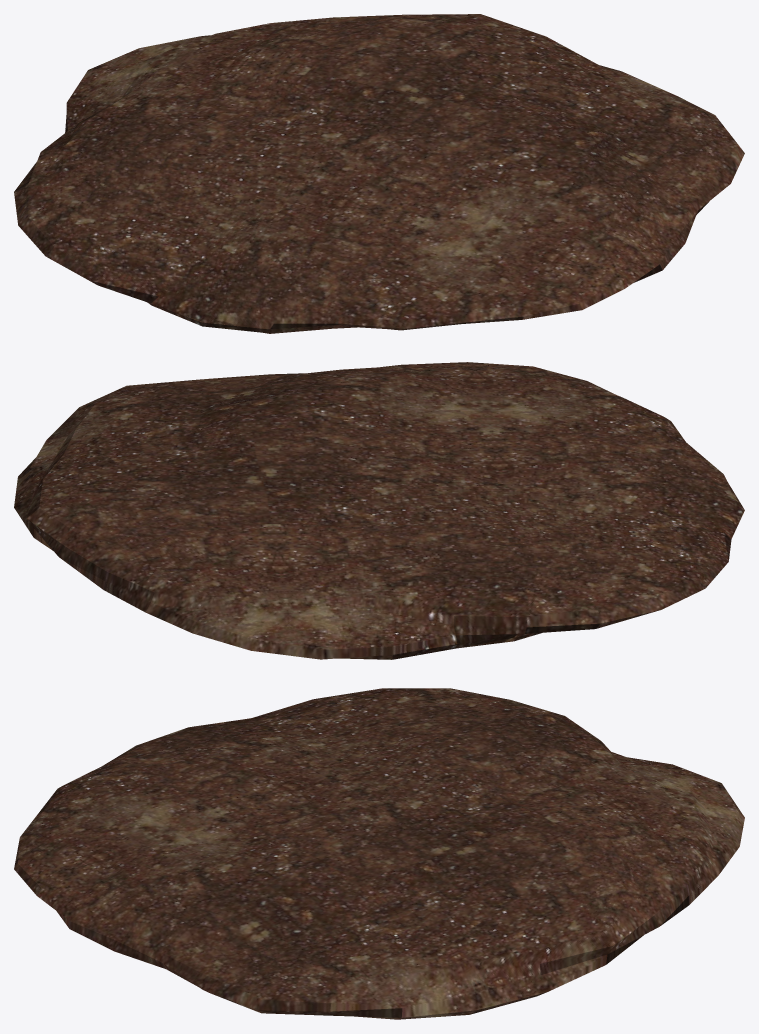
Rendered from hamburger3.fbx.
3 renders of one model, top to bottom at view 1: azimuth 30°, elevation 25°; view 2: azimuth 150°, elevation 25°; view 3: azimuth 270°, elevation 25°, orthographic.
Visible parts, largest first — view 1: Hamburger; view 2: Hamburger; view 3: Hamburger.
Part boxes in pixels (x1,y1,x2,y2): Hamburger: (14, 14, 744, 333); Hamburger: (14, 362, 744, 659); Hamburger: (14, 688, 744, 1019).
Bounding box in the file's own units: 119 × 15.53 × 117.
1 material, 1 textured.
